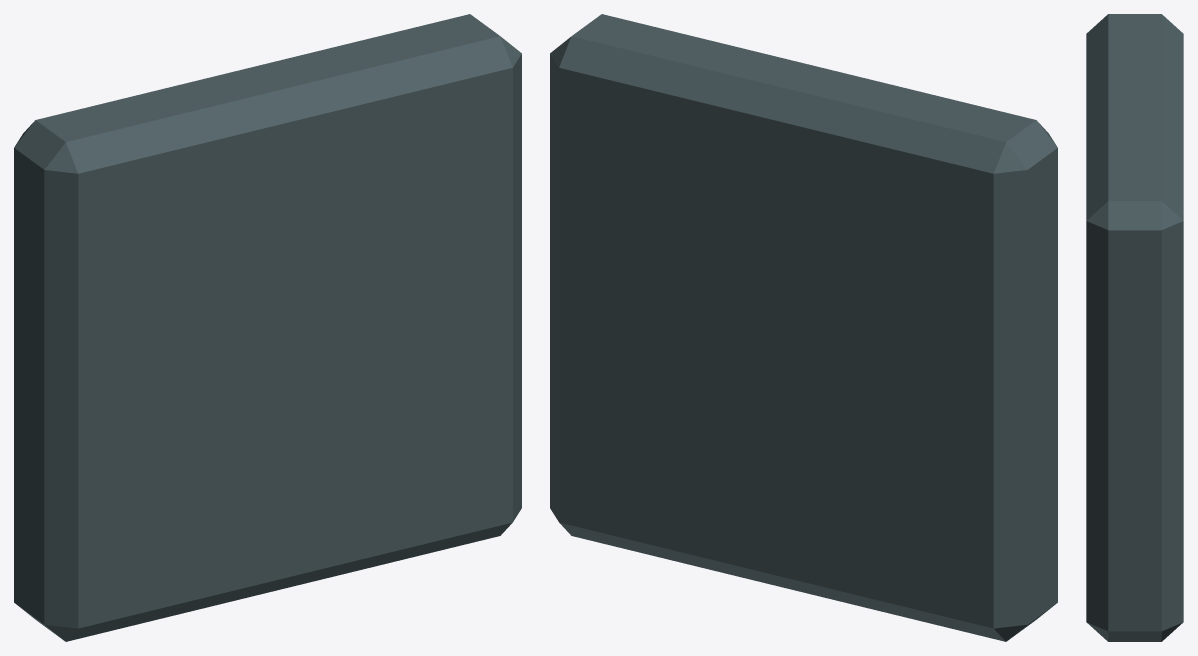
Rendered from back_plate.glb.
3 views of the same model, side by side, from view 1: azimuth 30°, elevation 25°; view 2: azimuth 150°, elevation 25°; view 3: azimuth 270°, elevation 25° (orthographic). The views are drawn at different scales.
Visible parts, largest first — view 1: back_plate; view 2: back_plate; view 3: back_plate.
Part boxes in pixels (x1=…): back_plate: x1=14, y1=14, x2=521, y2=641; back_plate: x1=550, y1=14, x2=1057, y2=641; back_plate: x1=1086, y1=14, x2=1183, y2=641.
Bounding box in the file's own units: 1 × 1 × 0.2.
